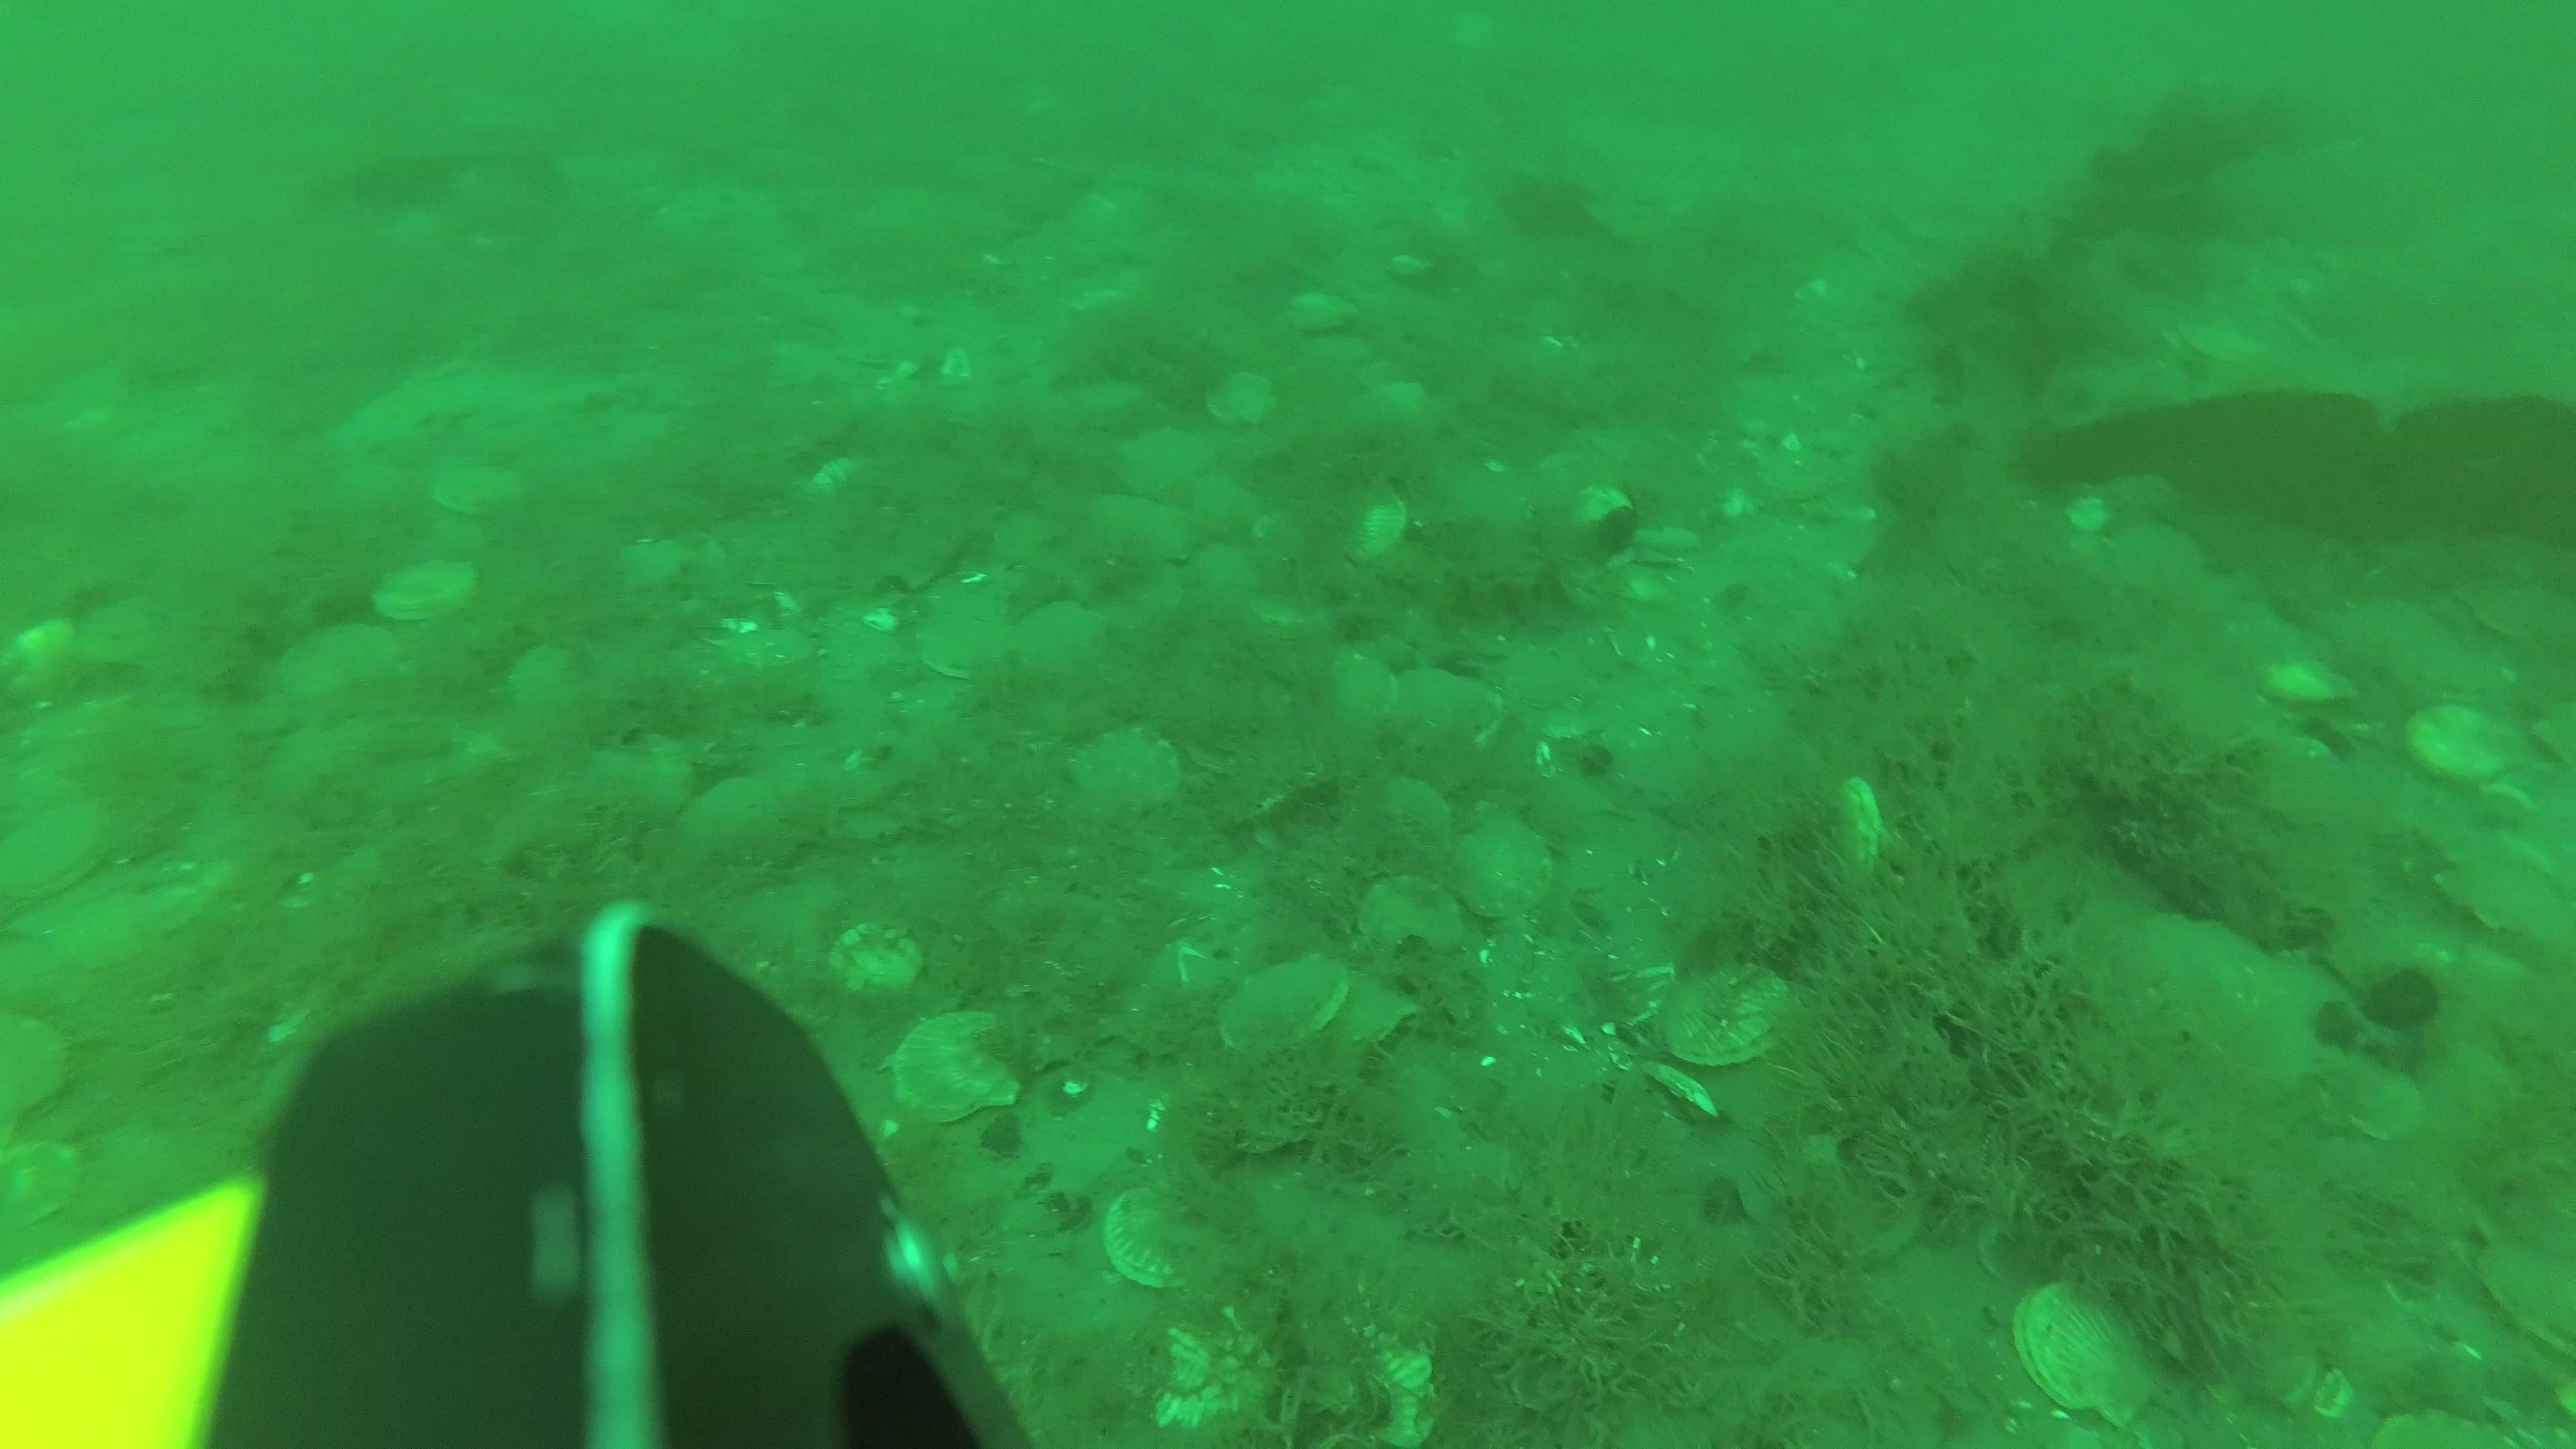scallop: (2089, 892, 2316, 1113), (2022, 1283, 2158, 1428), (2442, 833, 2576, 957), (893, 1008, 1031, 1127), (1668, 961, 1787, 1076), (1224, 959, 1350, 1060), (1111, 1185, 1219, 1295), (593, 736, 704, 830), (1384, 662, 1497, 754), (5, 805, 122, 893), (1345, 778, 1453, 872), (1076, 729, 1189, 816), (7, 1005, 74, 1145), (823, 927, 927, 1014), (1083, 490, 1198, 568), (913, 602, 1017, 685), (1458, 816, 1541, 920), (2403, 704, 2502, 789), (1364, 878, 1458, 964), (380, 561, 487, 630), (2109, 522, 2201, 602), (1118, 426, 1214, 495), (437, 458, 525, 522), (1343, 485, 1415, 561), (1203, 364, 1277, 430)
